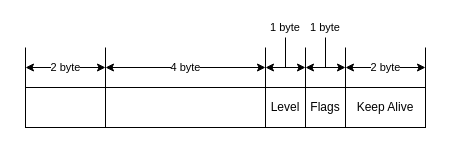
The diagram is 452 pixels wide and 145 high, and some of its shapes have lost their labels. The box of each missing label's shape, as (x1, y1, x2, y2) in pixels:
MQTT: (104, 86, 266, 128)
Protocol Name Length: (24, 86, 106, 128)
